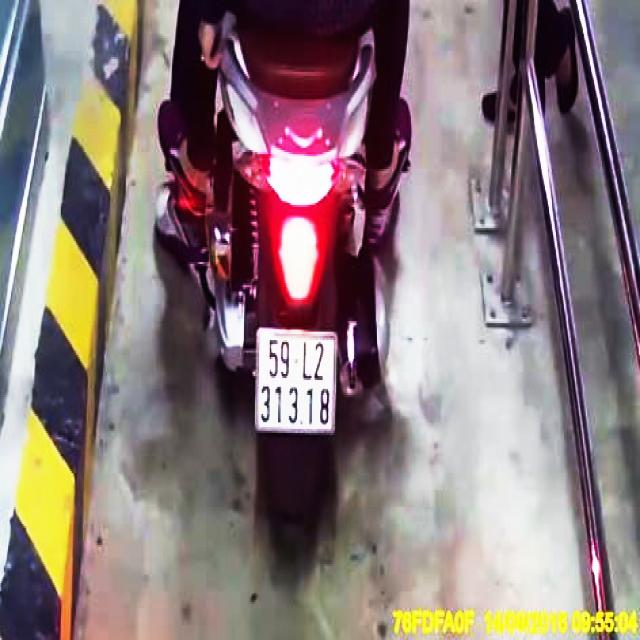license_plate: (254, 327, 337, 436)
